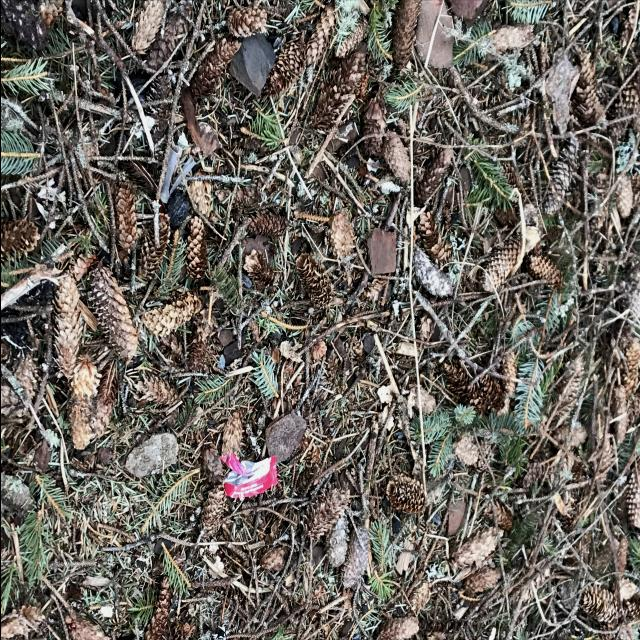Other plastic: (217, 452, 277, 498)
Unlabeled litter: (159, 148, 195, 203)
